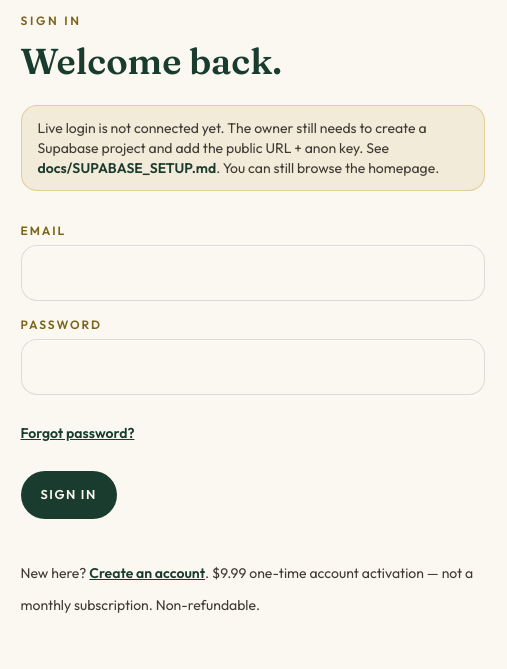
Test: sign in › shows a network error
Type "pat@example.com" into the field labelled "Email" at (252, 273), box [20,245,484,301]
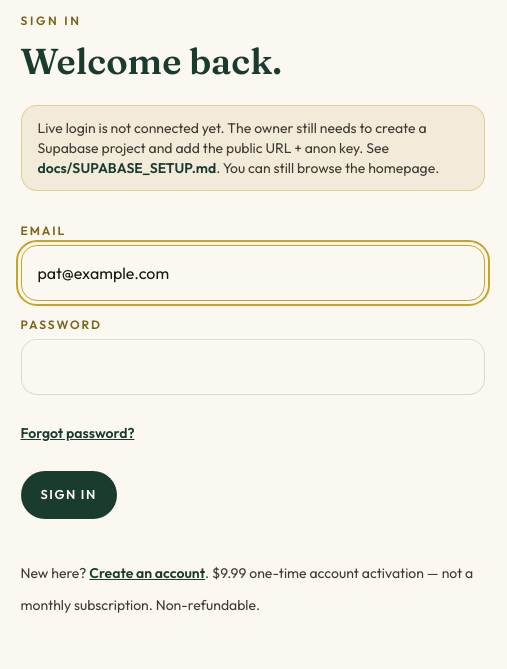
Type "password12" into the password field labelled "Password" at (252, 367), box [20,339,484,395]
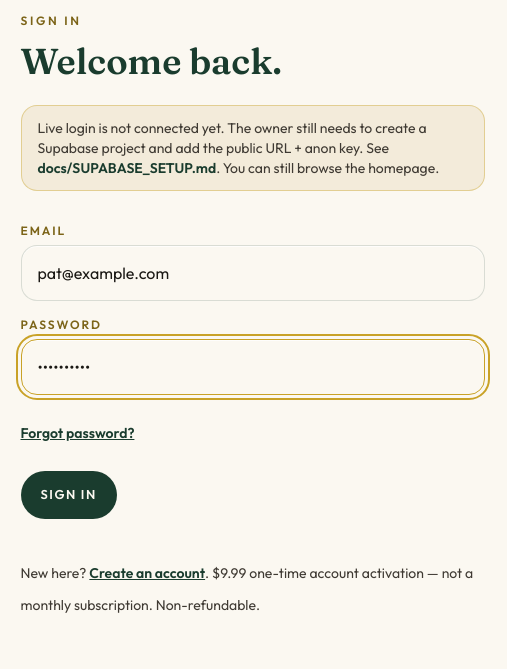
Click the button "Sign in" at (69, 495), box [20,471,117,519]
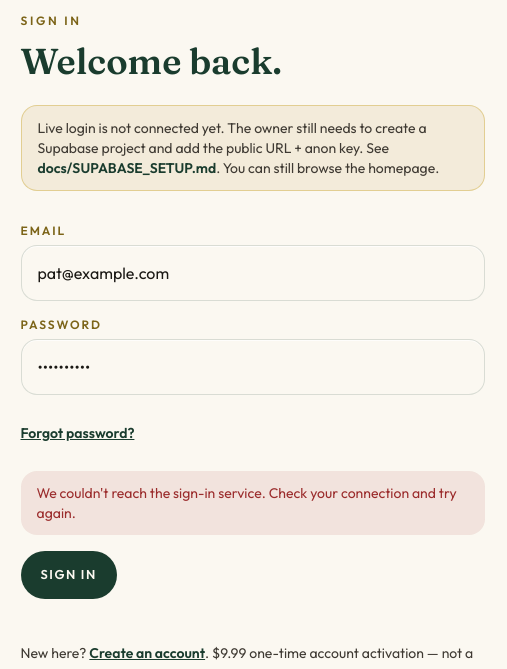
Check: the message "We couldn't reach the sign-in service. Check your connection and try again." is shown, box [20,471,484,535]
